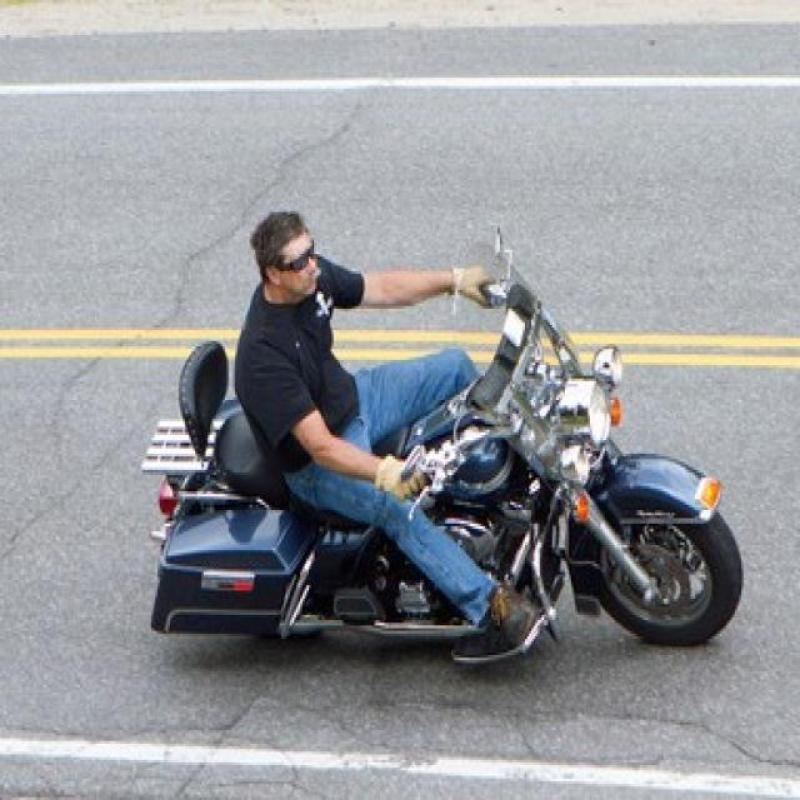nohelmet: (248, 197, 332, 312)
